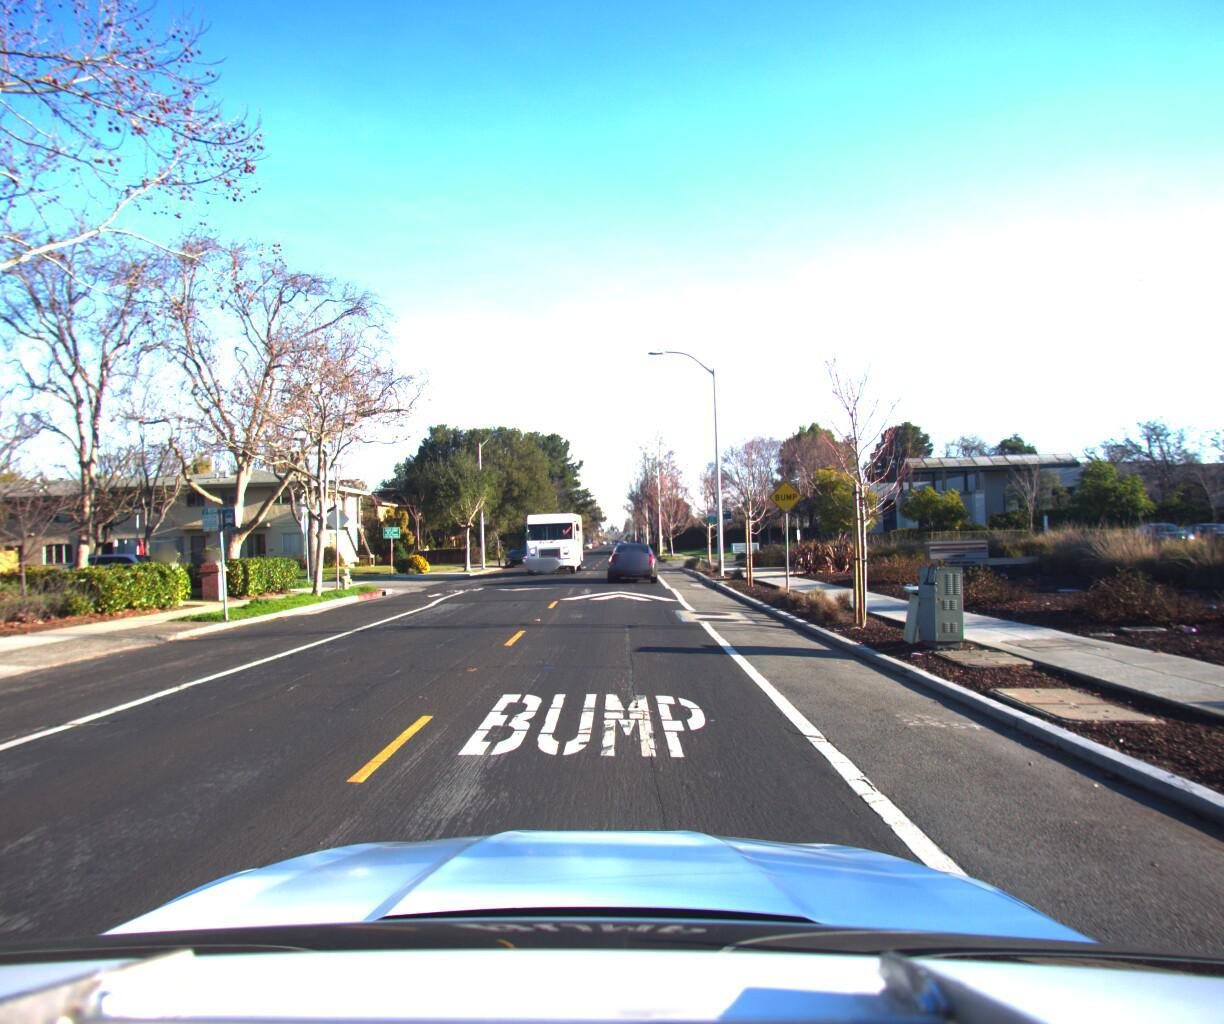car: (602, 530, 660, 575), (502, 537, 538, 559)
truck: (524, 498, 589, 569)
